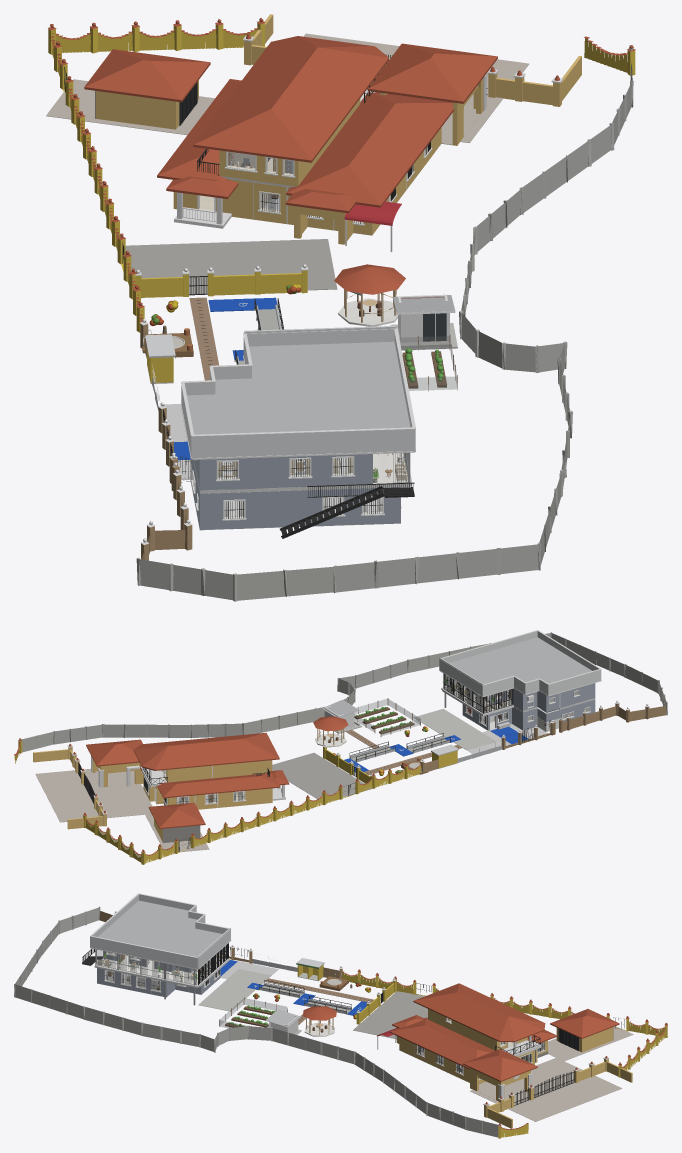
The model's file is residencia.glb.
The picture shows the model from 3 angles, top to bottom: view 1: azimuth 30°, elevation 25°; view 2: azimuth 150°, elevation 25°; view 3: azimuth 270°, elevation 25°; orthographic projection. The views are drawn at different scales.
Visible parts, largest first — view 1: sitio_obj, gris_p99_techo, amarilla_p2_obj, amarilla_p99_techo, amarilla_p1_obj, amarilla_p1_muro, amarilla_p1_cielo, gris_p1_muro, gris_p2_muro, gris_p2_obj, gris_p1_obj, amarilla_p2_muro; view 2: sitio_obj, gris_p99_techo, amarilla_p1_obj, amarilla_p99_techo, amarilla_p2_obj, amarilla_p1_muro, gris_p2_obj, gris_p1_muro, gris_p1_obj, amarilla_p1_cielo, gris_p2_muro, amarilla_p2_muro; view 3: sitio_obj, gris_p99_techo, amarilla_p1_obj, amarilla_p2_obj, amarilla_p99_techo, amarilla_p1_muro, gris_p2_obj, gris_p1_obj, amarilla_p1_cielo, gris_p1_muro, amarilla_p2_muro, gris_p2_muro.
Boxes of the visible parts, <box> form: sitio_obj: <box>48,18,635,601</box>; gris_p99_techo: <box>181,325,415,459</box>; amarilla_p2_obj: <box>157,43,497,213</box>; amarilla_p99_techo: <box>193,36,388,162</box>; amarilla_p1_obj: <box>46,33,563,251</box>; amarilla_p1_muro: <box>95,14,581,235</box>; amarilla_p1_cielo: <box>84,49,487,198</box>; gris_p1_muro: <box>190,457,400,530</box>; gris_p2_muro: <box>194,454,372,490</box>; gris_p2_obj: <box>193,452,414,497</box>; gris_p1_obj: <box>164,404,401,538</box>; amarilla_p2_muro: <box>219,98,360,186</box>; sitio_obj: <box>14,632,667,864</box>; gris_p99_techo: <box>439,630,601,697</box>; amarilla_p1_obj: <box>35,744,285,852</box>; amarilla_p99_techo: <box>133,732,279,770</box>; amarilla_p2_obj: <box>86,739,280,798</box>; amarilla_p1_muro: <box>33,749,272,842</box>; gris_p2_obj: <box>441,673,595,716</box>; gris_p1_muro: <box>462,700,595,730</box>; gris_p1_obj: <box>444,674,590,753</box>; amarilla_p1_cielo: <box>98,765,289,828</box>; gris_p2_muro: <box>473,683,595,712</box>; amarilla_p2_muro: <box>161,760,267,782</box>; sitio_obj: <box>14,906,667,1138</box>; gris_p99_techo: <box>90,893,231,969</box>; amarilla_p1_obj: <box>377,1026,633,1121</box>; amarilla_p2_obj: <box>390,1015,557,1081</box>; amarilla_p99_techo: <box>413,983,545,1042</box>; amarilla_p1_muro: <box>399,1027,632,1128</box>; gris_p2_obj: <box>82,943,229,987</box>; gris_p1_obj: <box>88,956,278,1005</box>; amarilla_p1_cielo: <box>498,1009,619,1086</box>; gris_p1_muro: <box>97,968,220,997</box>; amarilla_p2_muro: <box>428,1009,527,1050</box>; gris_p2_muro: <box>103,951,193,972</box>.
Bounding box in the file's own units: 75.89 × 8.1 × 95.82.
Materials: 118 (9 with a texture image).
